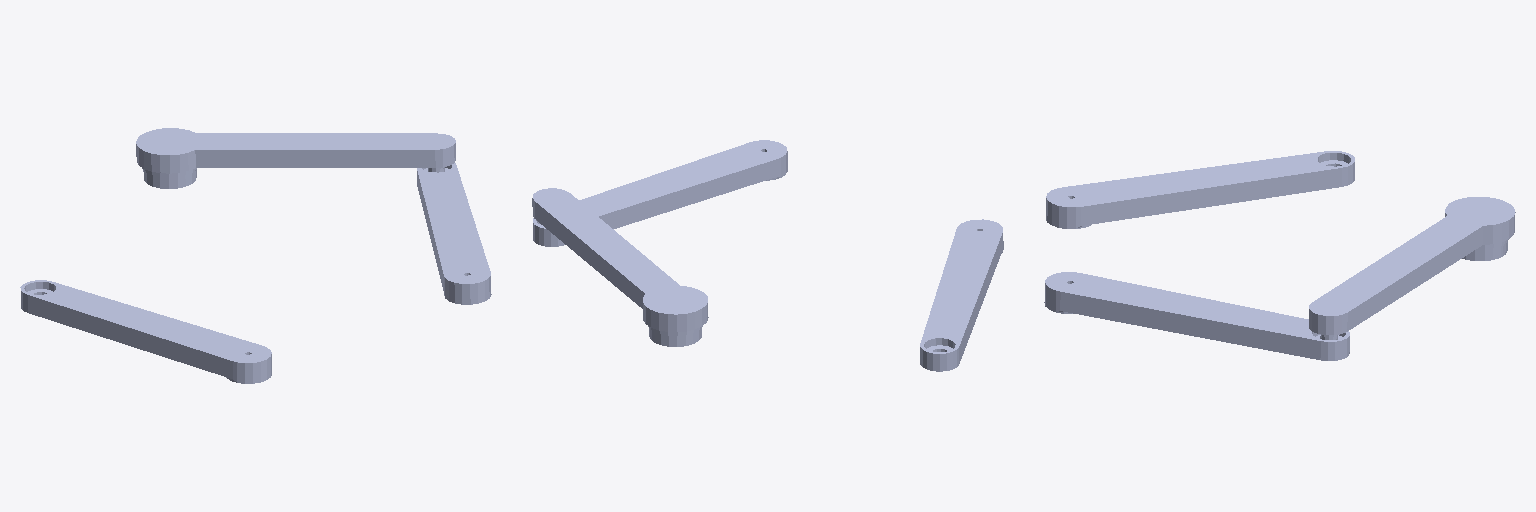
URDF robot description (Main_Assembly_V3_URDF):
<?xml version="1.0" encoding="utf-8"?>
<!-- This URDF was automatically created by SolidWorks to URDF Exporter! Originally created by Stephen Brawner (brawner@gmail.com) 
     Commit Version: 1.6.0-4-g7f85cfe  Build Version: 1.6.7995.38578
     For more information, please see http://wiki.ros.org/sw_urdf_exporter -->
<robot
  name="Main_Assembly_V3_URDF">
  <link
    name="base_link">
    <inertial>
      <origin
        xyz="0.083168982239769 0.0475041002838896 0.101771798173962"
        rpy="0 0 0" />
      <mass
        value="0.965408329881284" />
      <inertia
        ixx="0.00121438201472187"
        ixy="-0.000126878243464914"
        ixz="-1.48870080286014E-05"
        iyy="0.00400274535536562"
        iyz="-2.18806706584243E-05"
        izz="0.00309937571143598" />
    </inertial>
    <visual>
      <origin
        xyz="0 0 0"
        rpy="0 0 0" />
      <geometry>
        <mesh
          filename="package://Main_Assembly_V3_URDF/meshes/base_link.STL" />
      </geometry>
      <material
        name="">
        <color
          rgba="0.792156862745098 0.819607843137255 0.933333333333333 1" />
      </material>
    </visual>
    <collision>
      <origin
        xyz="0 0 0"
        rpy="0 0 0" />
      <geometry>
        <mesh
          filename="package://Main_Assembly_V3_URDF/meshes/base_link.STL" />
      </geometry>
    </collision>
  </link>
  <link
    name="Link_1">
    <inertial>
      <origin
        xyz="-1.5543E-14 -0.0084274 0.090145"
        rpy="0 0 0" />
      <mass
        value="0.10866" />
      <inertia
        ixx="0.00044201"
        ixy="1.0376E-20"
        ixz="2.0752E-19"
        iyy="0.00044965"
        iyz="5.1074E-07"
        izz="1.1894E-05" />
    </inertial>
    <visual>
      <origin
        xyz="0 0 0"
        rpy="0 0 0" />
      <geometry>
        <mesh
          filename="package://Main_Assembly_V3_URDF/meshes/Link_1.STL" />
      </geometry>
      <material
        name="">
        <color
          rgba="0.79216 0.81961 0.93333 1" />
      </material>
    </visual>
    <collision>
      <origin
        xyz="0 0 0"
        rpy="0 0 0" />
      <geometry>
        <mesh
          filename="package://Main_Assembly_V3_URDF/meshes/Link_1.STL" />
      </geometry>
    </collision>
  </link>
  <joint
    name="Joint_1"
    type="revolute">
    <origin
      xyz="0.22303 -0.17462 0.12681"
      rpy="-1.5853 -0.016051 -0.40717" />
    <parent
      link="base_link" />
    <child
      link="Link_1" />
    <axis
      xyz="0 1 0" />
    <limit
      lower="0"
      upper="0"
      effort="0"
      velocity="0" />
  </joint>
  <link
    name="Link_3">
    <inertial>
      <origin
        xyz="-0.102619519713433 -0.0275712043613897 -2.58860029782593E-05"
        rpy="0 0 0" />
      <mass
        value="0.107515397534699" />
      <inertia
        ixx="1.44996387378322E-05"
        ixy="2.84941765913835E-06"
        ixz="-2.76042428413505E-07"
        iyy="0.000519519337303352"
        iyz="8.02582452169293E-09"
        izz="0.000512464324053293" />
    </inertial>
    <visual>
      <origin
        xyz="0 0 0"
        rpy="0 0 0" />
      <geometry>
        <mesh
          filename="package://Main_Assembly_V3_URDF/meshes/Link_3.STL" />
      </geometry>
      <material
        name="">
        <color
          rgba="0.792156862745098 0.819607843137255 0.933333333333333 1" />
      </material>
    </visual>
    <collision>
      <origin
        xyz="0 0 0"
        rpy="0 0 0" />
      <geometry>
        <mesh
          filename="package://Main_Assembly_V3_URDF/meshes/Link_3.STL" />
      </geometry>
    </collision>
  </link>
  <joint
    name="Joint_3"
    type="revolute">
    <origin
      xyz="0 0 0.2"
      rpy="0 0.15538 0" />
    <parent
      link="Link_1" />
    <child
      link="Link_3" />
    <axis
      xyz="0 1 0" />
    <limit
      lower="0"
      upper="0"
      effort="0"
      velocity="0" />
  </joint>
  <link
    name="Endeffector">
    <inertial>
      <origin
        xyz="-1.1296519275561E-14 0.0148142908485712 -2.94347879403745E-14"
        rpy="0 0 0" />
      <mass
        value="0.0288633825048563" />
      <inertia
        ixx="4.37460641089228E-06"
        ixy="-1.65436122510606E-22"
        ixz="-4.2351647362715E-22"
        iyy="4.41970544605611E-06"
        iyz="-3.70576914423756E-22"
        izz="4.37460641089228E-06" />
    </inertial>
    <visual>
      <origin
        xyz="0 0 0"
        rpy="0 0 0" />
      <geometry>
        <mesh
          filename="package://Main_Assembly_V3_URDF/meshes/Endeffector.STL" />
      </geometry>
      <material
        name="">
        <color
          rgba="0.792156862745098 0.819607843137255 0.933333333333333 1" />
      </material>
    </visual>
    <collision>
      <origin
        xyz="0 0 0"
        rpy="0 0 0" />
      <geometry>
        <mesh
          filename="package://Main_Assembly_V3_URDF/meshes/Endeffector.STL" />
      </geometry>
    </collision>
  </link>
  <joint
    name="Joint_5"
    type="revolute">
    <origin
      xyz="-0.2 -0.0063467 -0.00014871"
      rpy="-3.1416 -1.5579 0" />
    <parent
      link="Link_3" />
    <child
      link="Endeffector" />
    <axis
      xyz="0 1 0" />
    <limit
      lower="0"
      upper="0"
      effort="0"
      velocity="0" />
  </joint>
  <link
    name="Link_2">
    <inertial>
      <origin
        xyz="-4.29933866286092E-14 -0.00900607153307129 0.0901453102630915"
        rpy="0 0 0" />
      <mass
        value="0.108656751757487" />
      <inertia
        ixx="0.000442013586531157"
        ixy="1.48230765769503E-21"
        ixz="-4.63327022148102E-19"
        iyy="0.000449653935541168"
        iyz="5.10742428231393E-07"
        izz="1.18942776182149E-05" />
    </inertial>
    <visual>
      <origin
        xyz="0 0 0"
        rpy="0 0 0" />
      <geometry>
        <mesh
          filename="package://Main_Assembly_V3_URDF/meshes/Link_2.STL" />
      </geometry>
      <material
        name="">
        <color
          rgba="0.792156862745098 0.819607843137255 0.933333333333333 1" />
      </material>
    </visual>
    <collision>
      <origin
        xyz="0 0 0"
        rpy="0 0 0" />
      <geometry>
        <mesh
          filename="package://Main_Assembly_V3_URDF/meshes/Link_2.STL" />
      </geometry>
    </collision>
  </link>
  <joint
    name="Joint_2"
    type="revolute">
    <origin
      xyz="0.033931 -0.17377 0.1045"
      rpy="-1.5924 -0.0012905 0.37069" />
    <parent
      link="base_link" />
    <child
      link="Link_2" />
    <axis
      xyz="0 1 0" />
    <limit
      lower="0"
      upper="0"
      effort="0"
      velocity="0" />
  </joint>
  <link
    name="Link_4">
    <inertial>
      <origin
        xyz="-0.088120146906434 0.0250425874491038 -2.99066327258402E-15"
        rpy="0 0 0" />
      <mass
        value="0.0932618314359105" />
      <inertia
        ixx="1.12888480832201E-05"
        ixy="2.71074632346948E-06"
        ixz="1.33407689192552E-19"
        iyy="0.000366978882286225"
        iyz="1.52465930505774E-20"
        izz="0.000360667554634805" />
    </inertial>
    <visual>
      <origin
        xyz="0 0 0"
        rpy="0 0 0" />
      <geometry>
        <mesh
          filename="package://Main_Assembly_V3_URDF/meshes/Link_4.STL" />
      </geometry>
      <material
        name="">
        <color
          rgba="0.792156862745098 0.819607843137255 0.933333333333333 1" />
      </material>
    </visual>
    <collision>
      <origin
        xyz="0 0 0"
        rpy="0 0 0" />
      <geometry>
        <mesh
          filename="package://Main_Assembly_V3_URDF/meshes/Link_4.STL" />
      </geometry>
    </collision>
  </link>
  <joint
    name="Joint_4"
    type="revolute">
    <origin
      xyz="0 -0.0036364 0.2"
      rpy="0 0.16756 -3.1416" />
    <parent
      link="Link_2" />
    <child
      link="Link_4" />
    <axis
      xyz="0 1 0" />
    <limit
      lower="0"
      upper="0"
      effort="0"
      velocity="0" />
  </joint>
</robot>

--- Render facts (derived) ---
Views: 3 orthographic renders of the robot side by side, from view 1: azimuth 30°, elevation 25°; view 2: azimuth 150°, elevation 25°; view 3: azimuth 270°, elevation 25°.
Robot: Main_Assembly_V3_URDF — 6 links, 5 joints (5 revolute); root link base_link; default pose: all joints at 0.
Links seen in each view (by area): view 1: Link_3, Link_2, Link_1, Endeffector; view 2: Link_3, Link_1, Link_2, Endeffector; view 3: Link_2, Link_1, Link_3, Endeffector.
Link boxes in pixels (box(x1,y1,x2,y2)): Link_3: box(136, 128, 455, 188); Link_2: box(20, 280, 271, 383); Link_1: box(417, 163, 491, 304); Endeffector: box(146, 132, 192, 150); Link_3: box(532, 188, 708, 346); Link_1: box(533, 140, 787, 246); Link_2: box(920, 219, 1003, 371); Endeffector: box(652, 290, 697, 309); Link_2: box(1046, 151, 1354, 228); Link_1: box(1044, 272, 1349, 360); Link_3: box(1309, 197, 1515, 339); Endeffector: box(1456, 201, 1504, 220).
Bounding box of the posed robot: 0.3709 × 0.3336 × 0.0588 m (x, y, z).
Meshes: 6 distinct files referenced, 4 mesh visuals loaded (4 binary STL); not drawn: 2 (reference not matched to a file when rendering).
